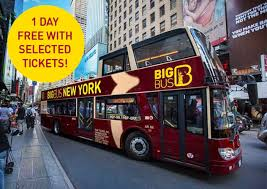bus: (40, 26, 243, 177)
